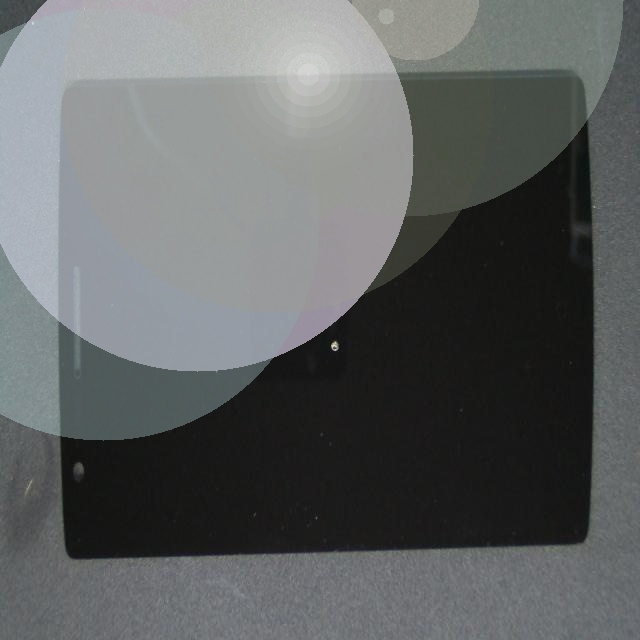stain: (167, 132, 487, 484)
